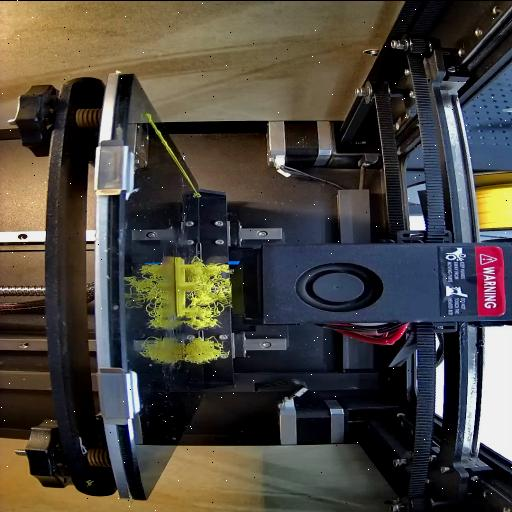spaghetti: (188, 260, 236, 330), (178, 338, 228, 366)
